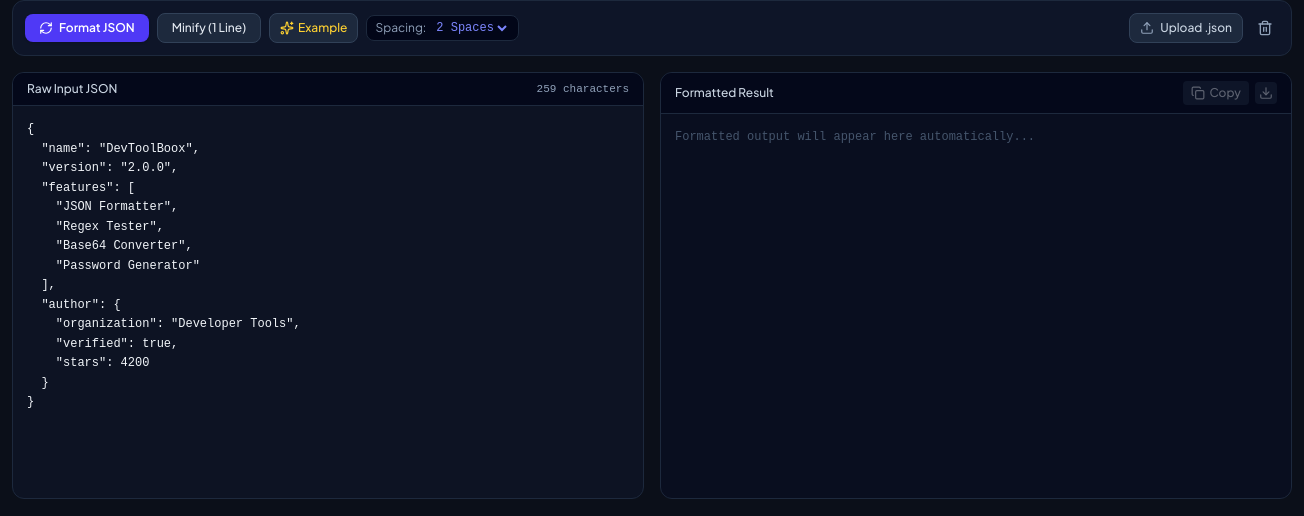
Scenario: JsonFormatter Tool › clears input and output when clear button is clicked
This screenshot has width=1304, height=516.
Click the button titled "Clear all": [1265, 28] box [1251,14,1279,42]
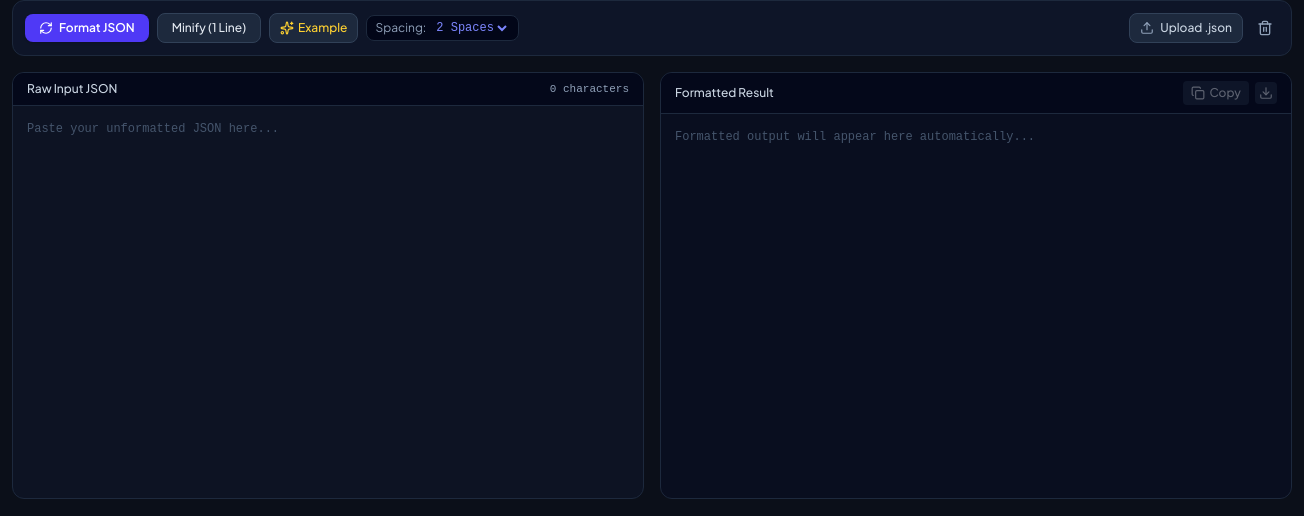
Check: the text box with placeholder "Formatted output will appear here automatically..." is empty, box [661,114,1291,498]
Check: the text box with placeholder "Paste your unformatted JSON here..." is empty, box [13,106,643,490]
